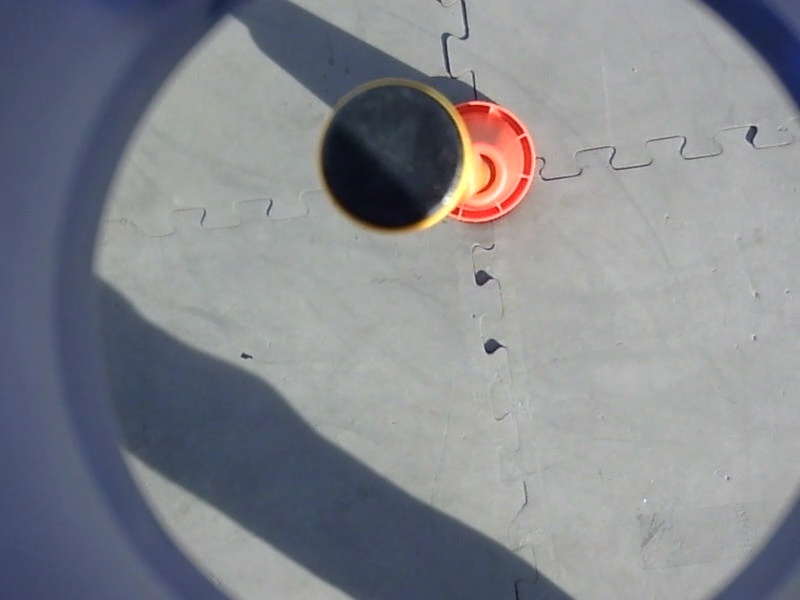tip: (303, 68, 481, 250)
